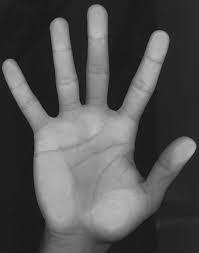palm: (37, 117, 149, 229)
